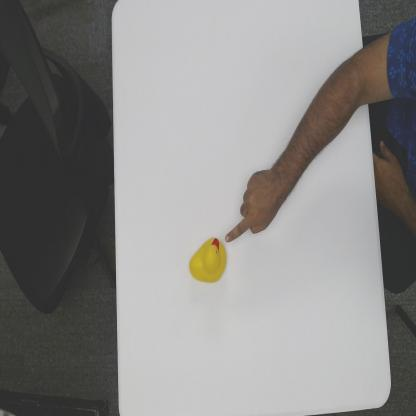Arm: (276, 55, 372, 209)
Duck: (188, 234, 228, 285)
Hand: (224, 165, 282, 246)
